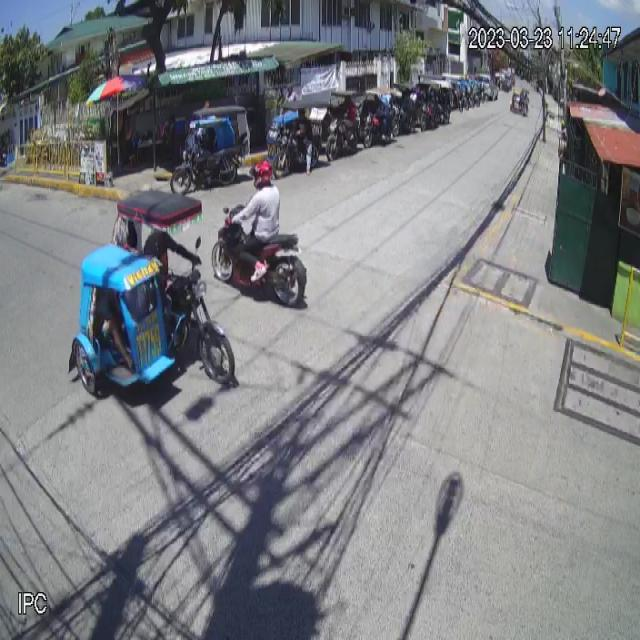Motorcycle: (209, 203, 308, 305)
Tricycle: (67, 184, 235, 396)
